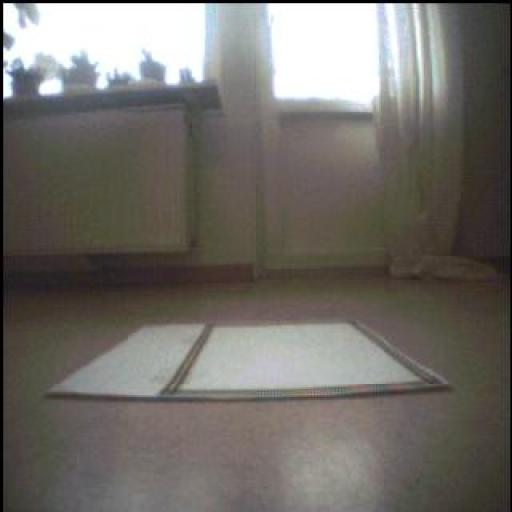Pad: (51, 323, 449, 401)
